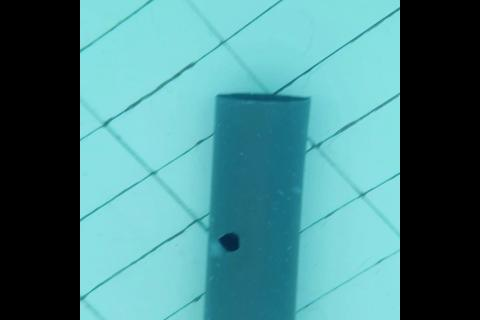kebocoran: (217, 231, 241, 252)
